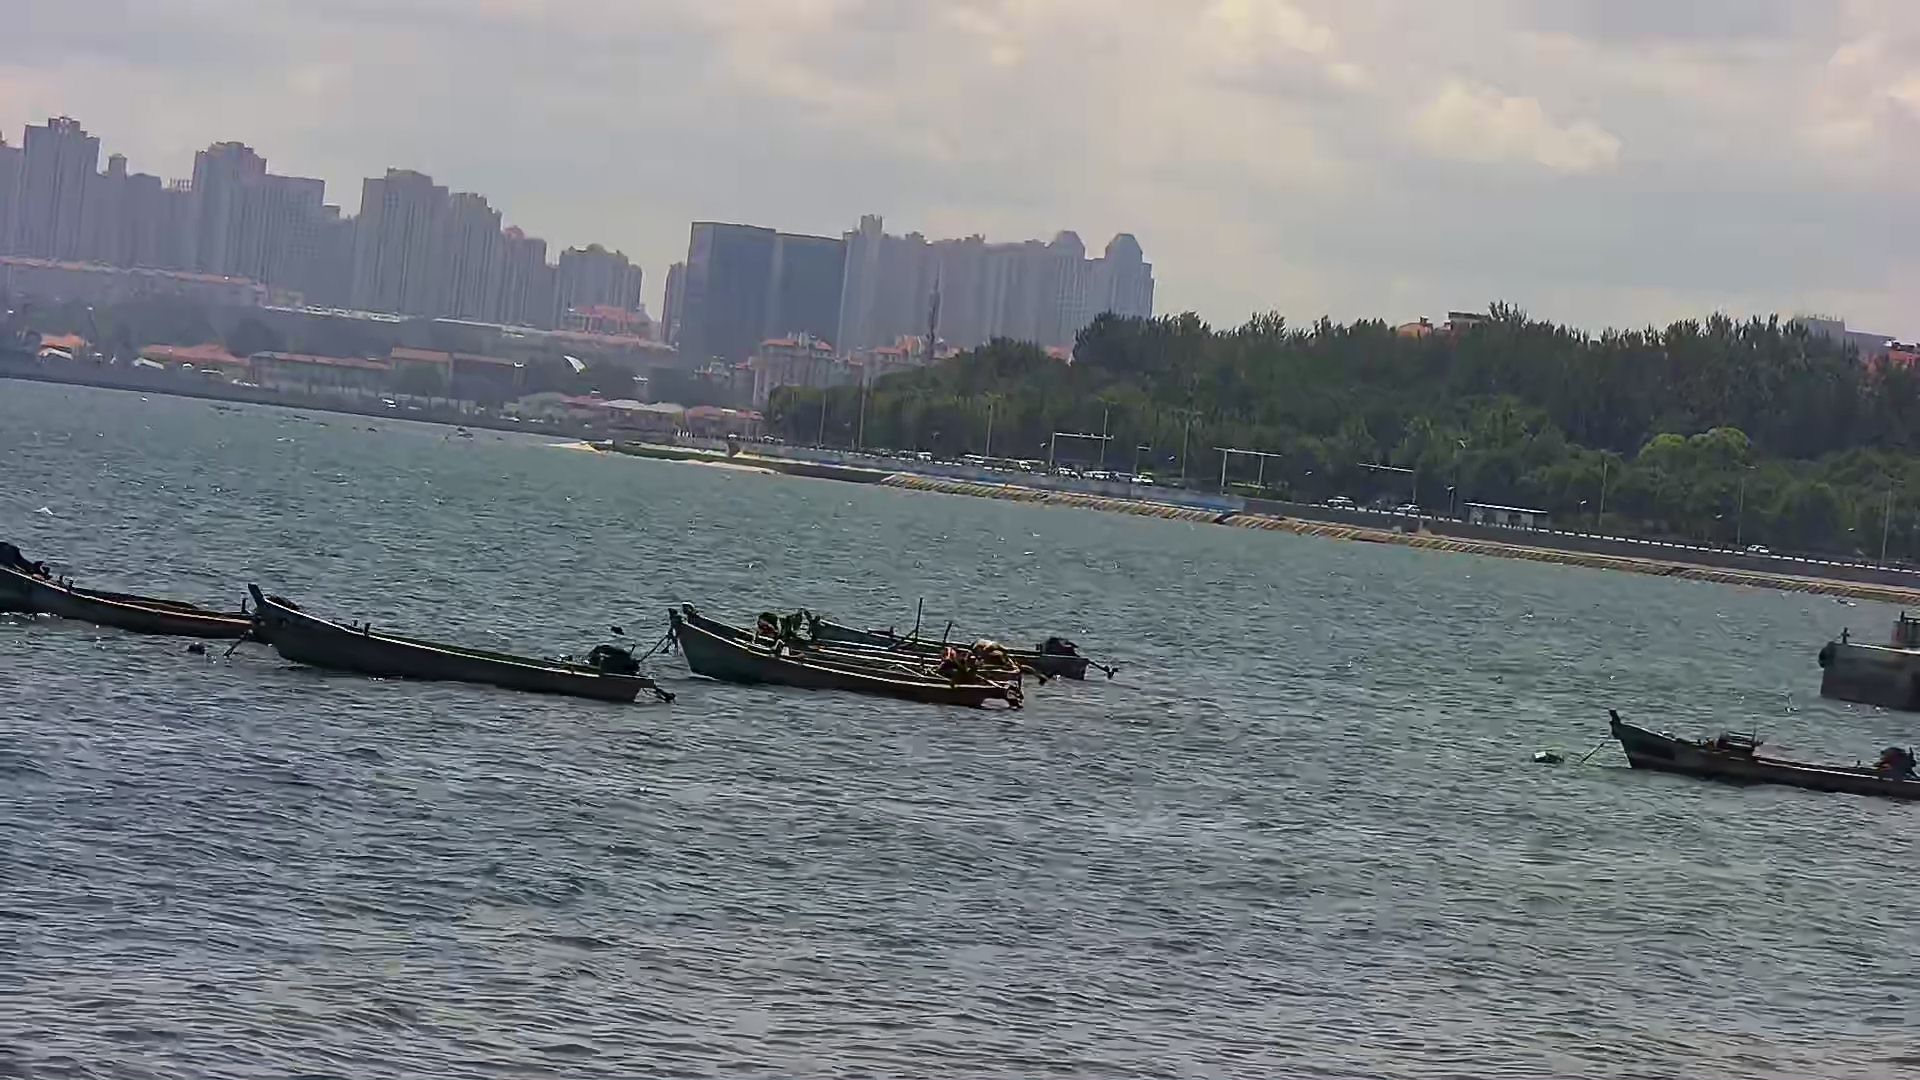ball: (179, 637, 215, 665)
boat: (233, 578, 674, 704), (665, 611, 1048, 723), (793, 591, 1142, 690), (1589, 700, 1920, 804), (3, 530, 261, 638)
rubbish: (1526, 738, 1573, 774)
